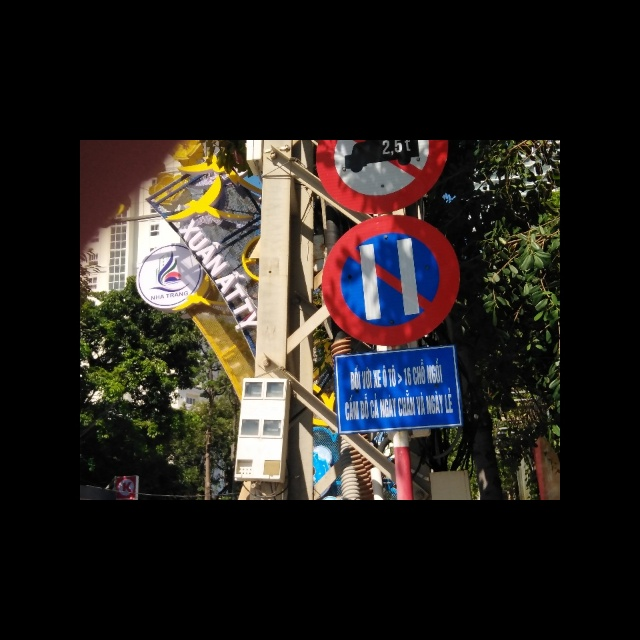Cấm xe tải: (311, 140, 454, 214)
Cấm đỗ xe ngày chẵn: (318, 213, 464, 343)
